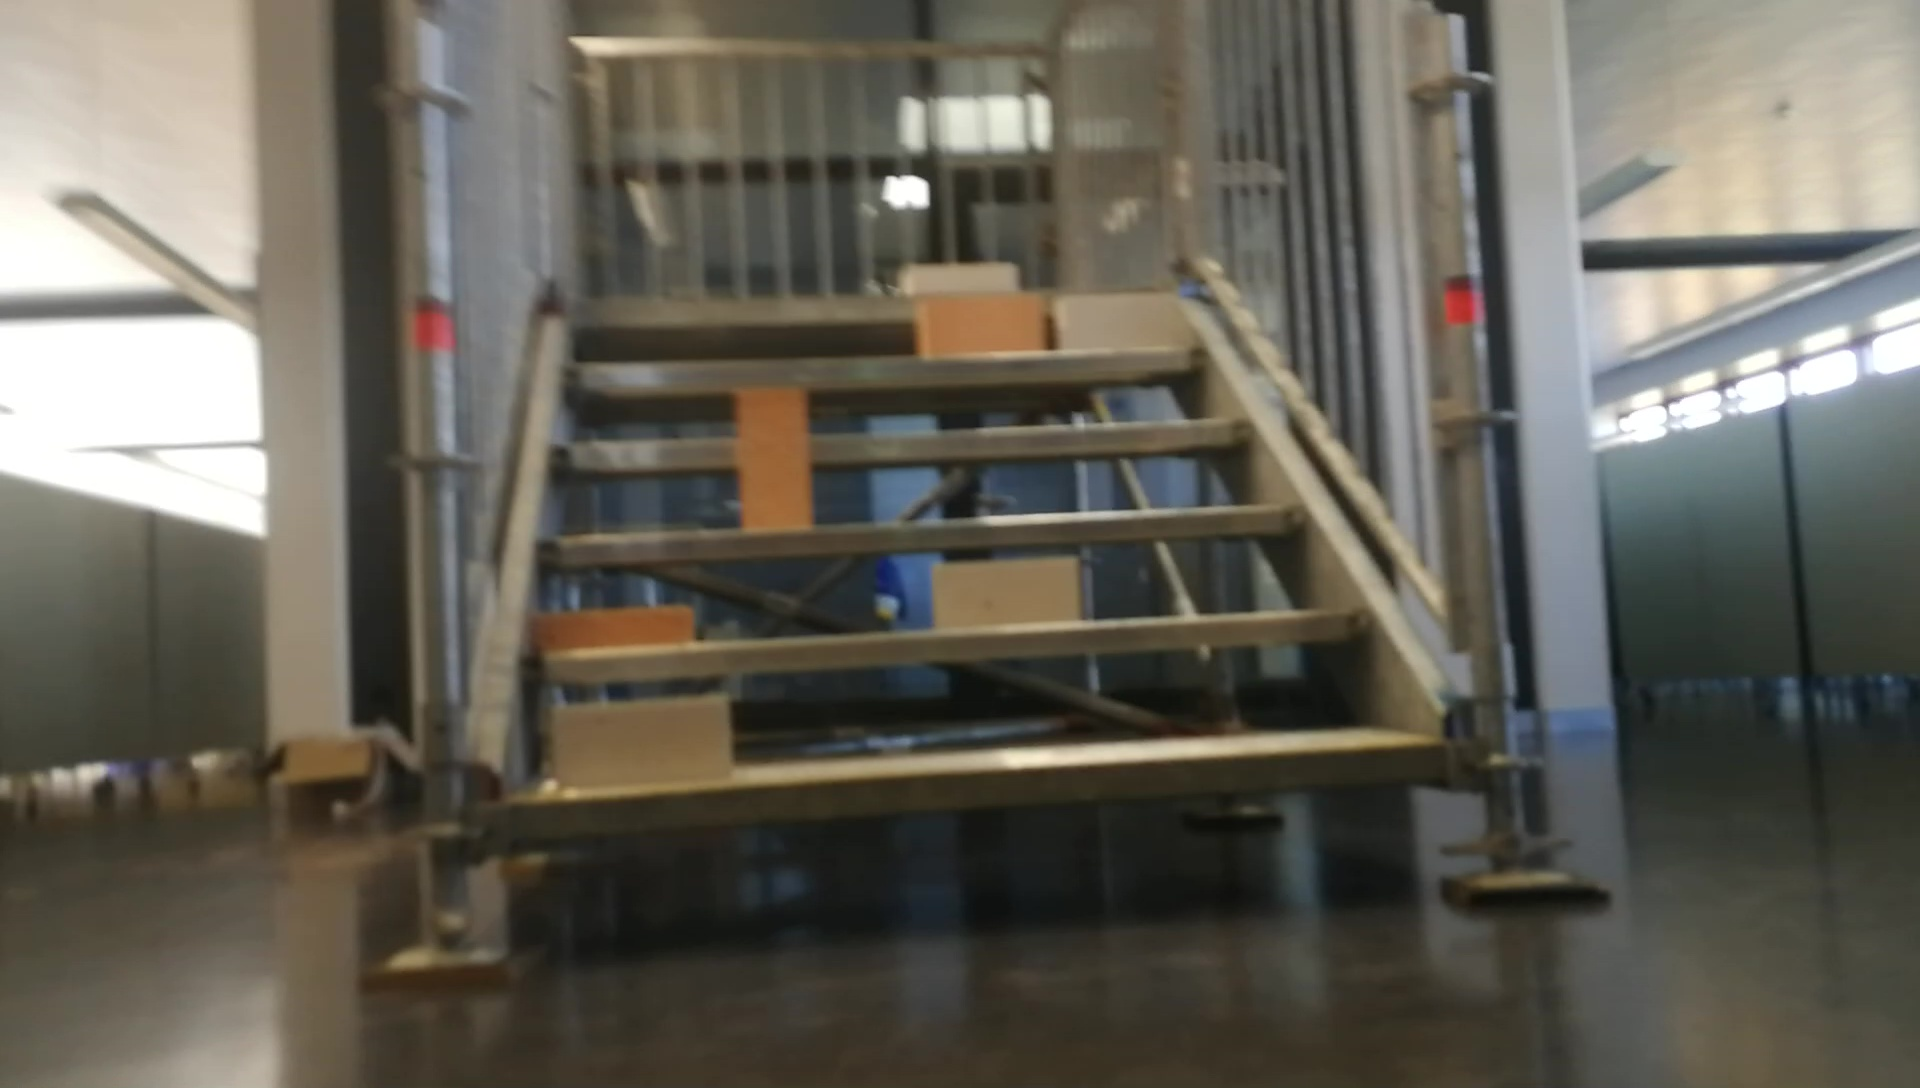brick: (555, 700, 729, 782), (738, 390, 806, 533), (935, 560, 1075, 628), (919, 295, 1038, 352), (1058, 295, 1174, 348), (539, 608, 688, 648), (902, 262, 1013, 291)
edge: (502, 736, 1440, 845), (517, 608, 1378, 683), (538, 505, 1311, 566), (553, 415, 1267, 468), (566, 346, 1216, 393)
stairs: (357, 0, 1615, 986)
steps: (488, 240, 1452, 865)
